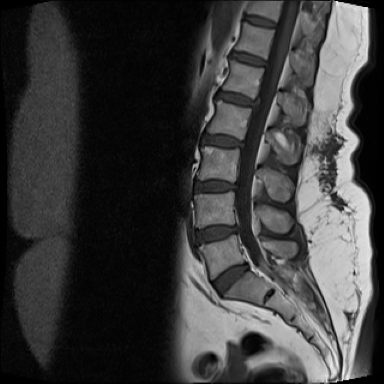Degenerative Disc Disease (DDD): (190, 175, 240, 197)
Lumbar Disc Bulge (LDB): (208, 258, 255, 301), (191, 220, 242, 250), (210, 86, 264, 111), (197, 131, 249, 153)
Normal IVD: (239, 13, 281, 30)
Spinal Stenosis (SS): (248, 92, 265, 112), (259, 54, 274, 73), (230, 177, 242, 196), (230, 222, 242, 237), (236, 135, 247, 151), (244, 258, 253, 273)
Thoracic Disc Bulge (TDB): (228, 47, 271, 69)
